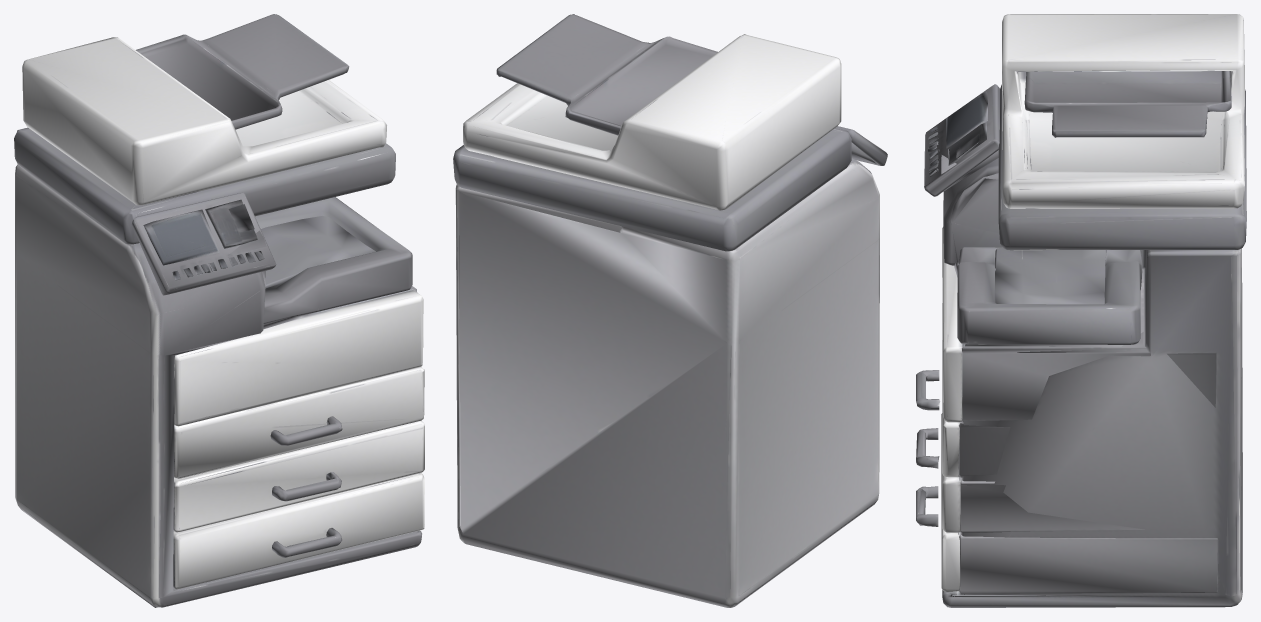
Rendered from Meshy_AI_Cream_Cushioned_Woode_0901123805_texture.fbx.
The picture shows the model from 3 angles, left to right: view 1: azimuth 30°, elevation 25°; view 2: azimuth 150°, elevation 25°; view 3: azimuth 270°, elevation 25°; orthographic projection. The views are drawn at different scales.
Visible parts, largest first — view 1: mesh_node; view 2: mesh_node; view 3: mesh_node.
Boxes of the visible parts, box(x1,y1,x2,y2) form: mesh_node: box(14, 14, 424, 607); mesh_node: box(453, 14, 887, 607); mesh_node: box(916, 14, 1246, 607).
Bounding box in the file's own units: 63.87 × 100 × 64.26.
1 material, 1 textured.
